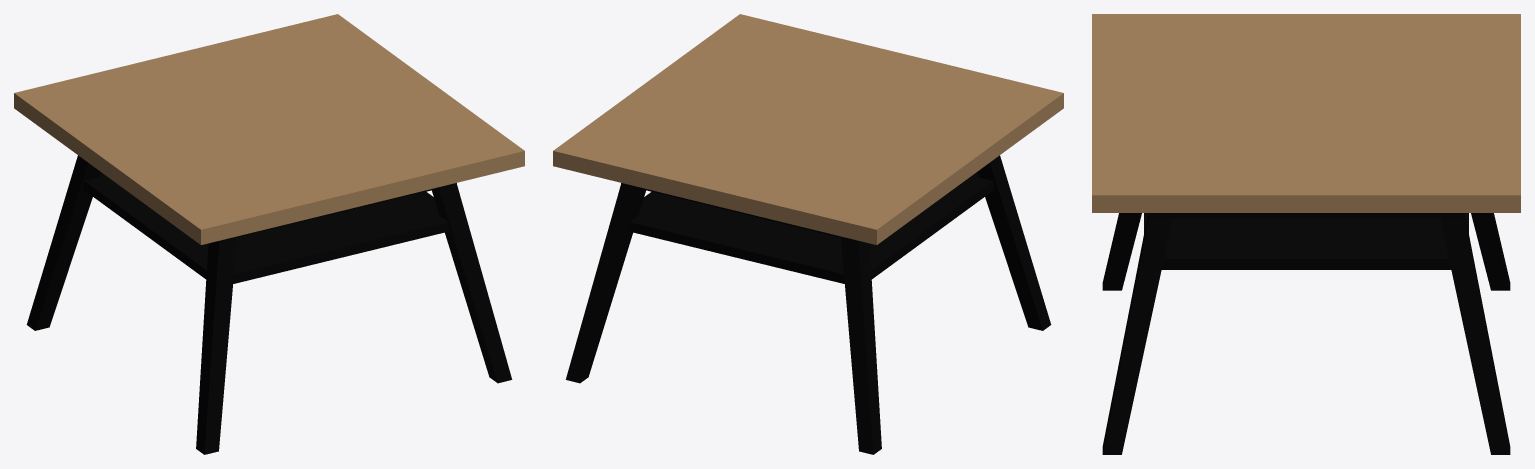
Rendered from table.fbx.
The picture shows the model from 3 angles, left to right: view 1: azimuth 30°, elevation 25°; view 2: azimuth 150°, elevation 25°; view 3: azimuth 270°, elevation 25°; orthographic projection. The views are drawn at different scales.
Visible parts, largest first — view 1: polySurface30; view 2: polySurface30; view 3: polySurface30.
Boxes of the visible parts, box(x1,y1,x2,y2) form: polySurface30: box(14, 14, 524, 454); polySurface30: box(553, 14, 1063, 454); polySurface30: box(1092, 14, 1520, 454).
Bounding box in the file's own units: 116 × 79.09 × 116.
